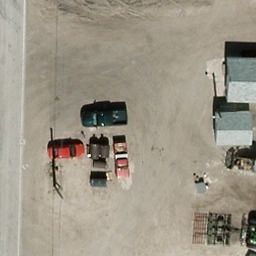car: (48, 145, 84, 159)
pickup: (81, 111, 127, 128), (114, 142, 130, 180)
